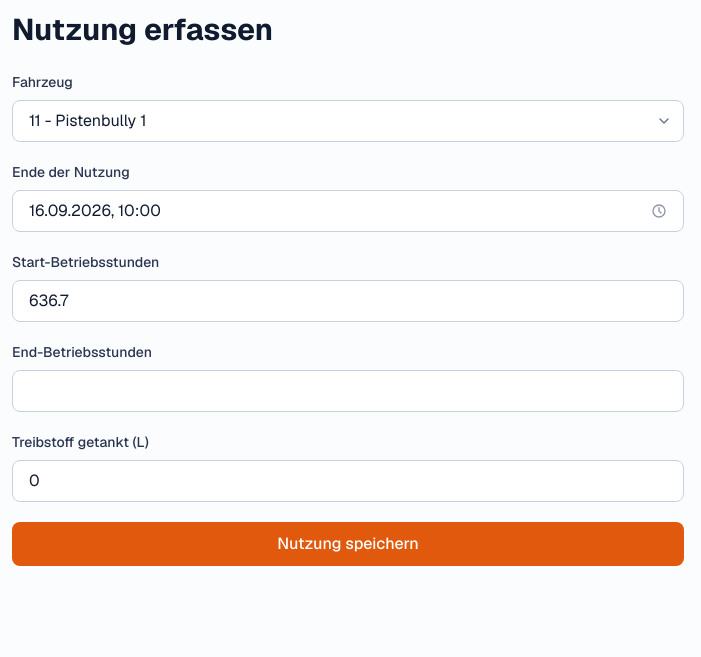
Test: Nutzung erfassen › input validation › shows the duration in hours for groomers
Expected: the number field with id "startOperatingHours" is enabled, 12,280 -> 684,322
Expected: the number field with id "startOperatingHours" is not empty, 12,280 -> 684,322
In the number field with id "endOperatingHours": (348, 391) 12,370 -> 684,412, type "645.1"
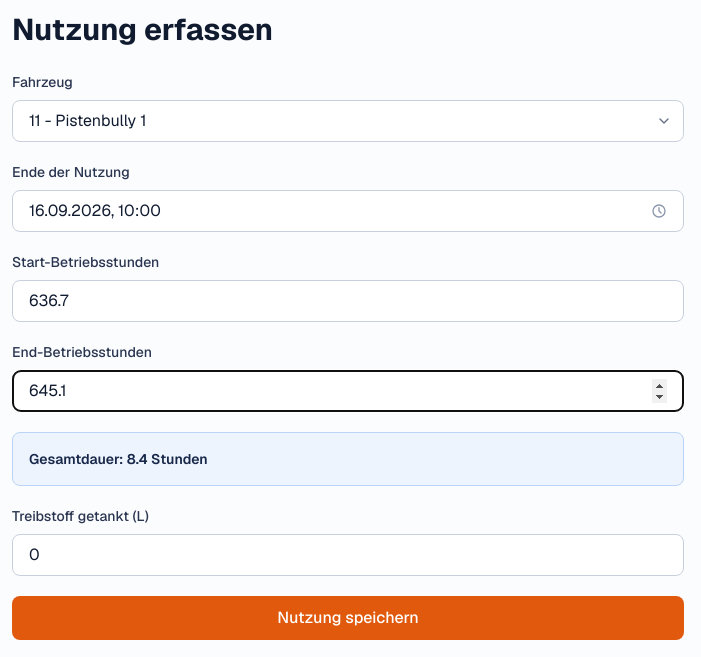
Expected: the text "Gesamtdauer: 8.4 Stunden" is shown, 29,450 -> 208,468
